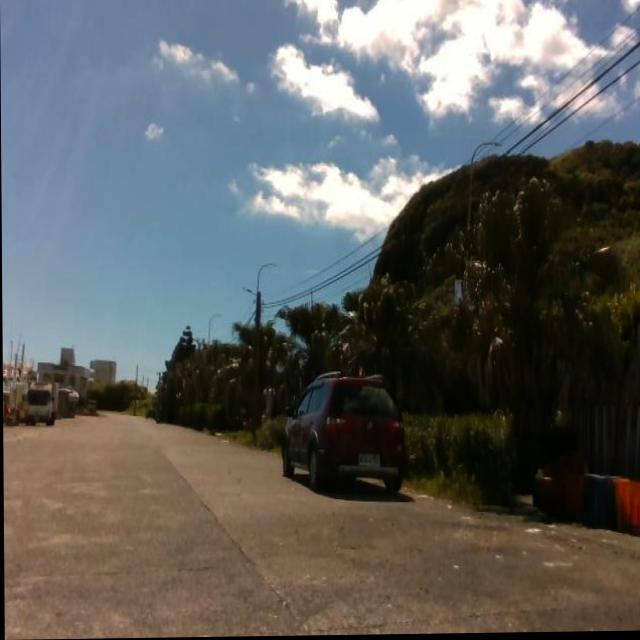pollute: (526, 447, 640, 544)
